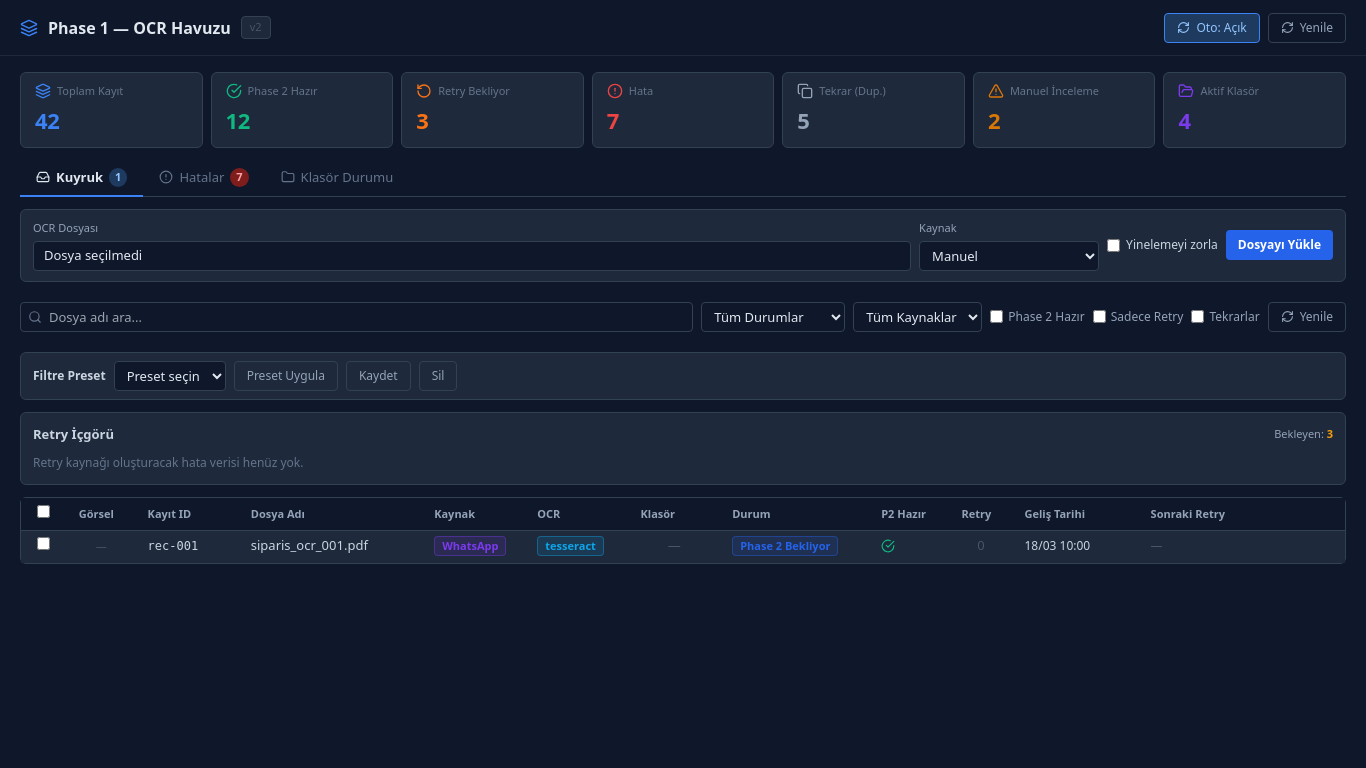
it: Phase1QueuePage › satıra tıklanınca kayıt detayı drawer'ı açılır ve lifecycle gösterilir
Click the text "siparis_ocr_001.pdf" at (330,546), box [239, 530, 422, 562]
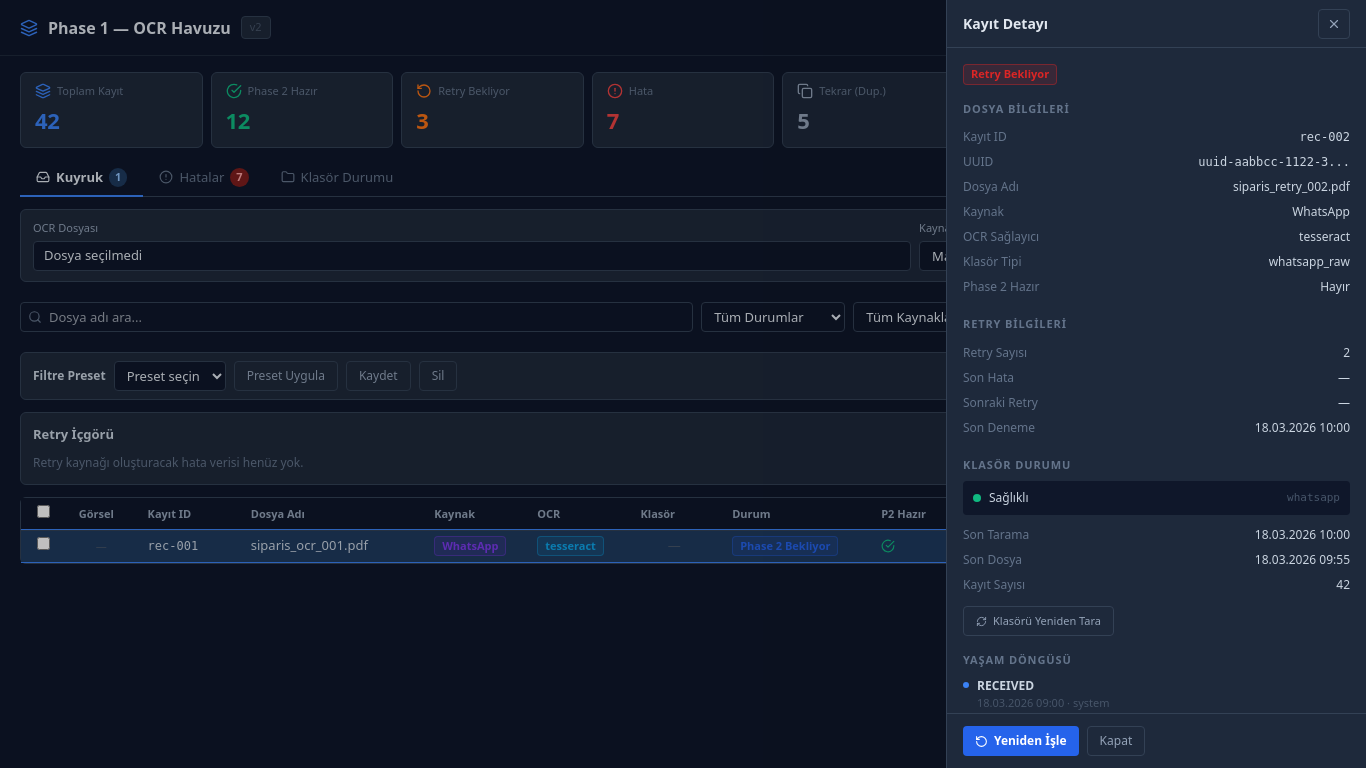
Now the dialog "Kayıt Detayı" is shown, box [946, 0, 1365, 767]
Now the text "Kayıt Detayı" is shown, box [963, 13, 1048, 34]
Now the text "Yaşam Döngüsü" is shown, box [963, 652, 1072, 667]
